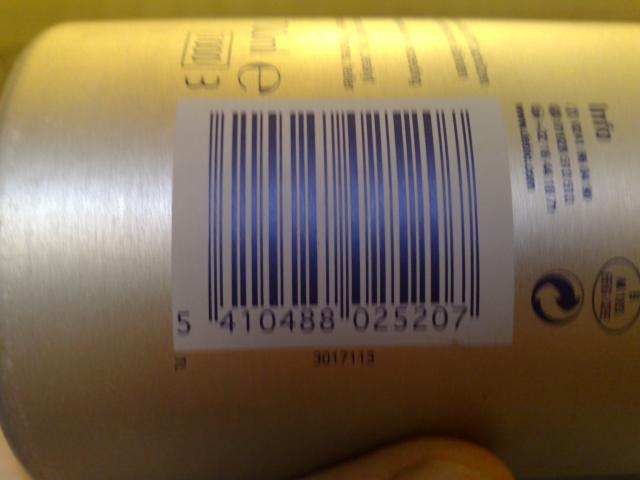Barcode: (168, 102, 505, 348)
